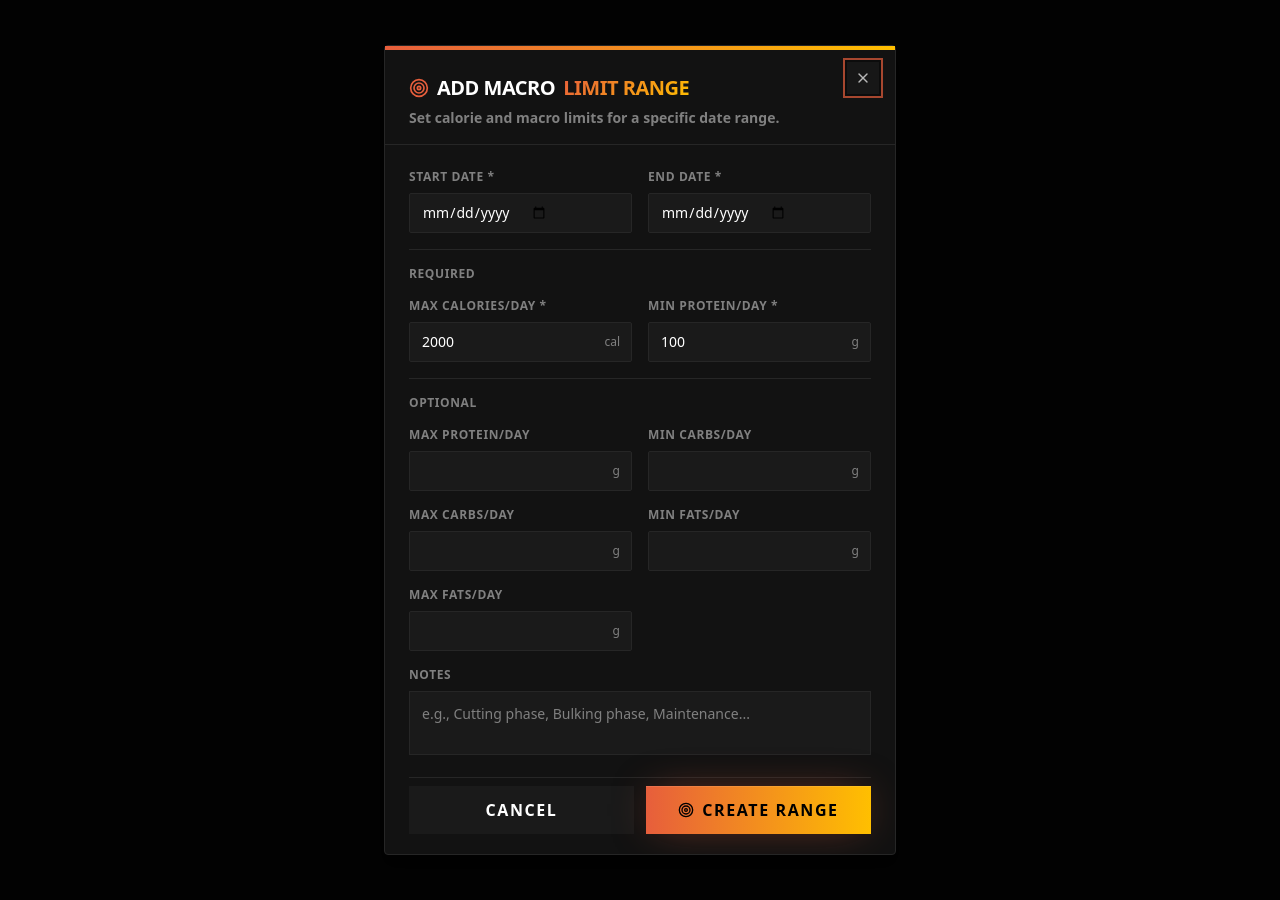
Test: AddLimitRangeModal › Form Validation › shows error when start date is empty
This screenshot has width=1280, height=900.
// Fill in required fields except start date
In the date field labelled "End Date *": coordinates (760, 213) [648,193,871,233], type "2026-02-28"
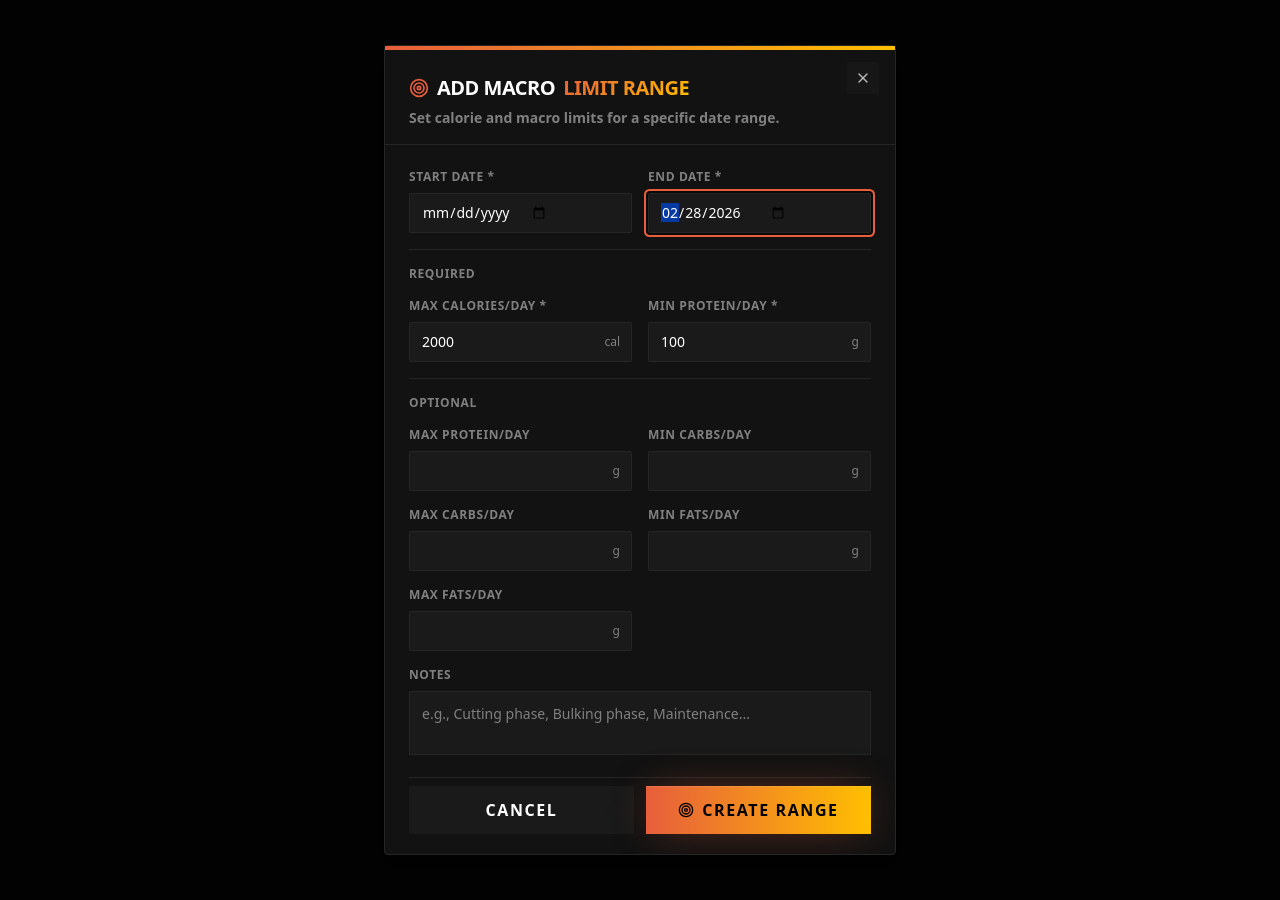
Click the button "Create Range": coordinates (758, 810) [646,786,871,834]
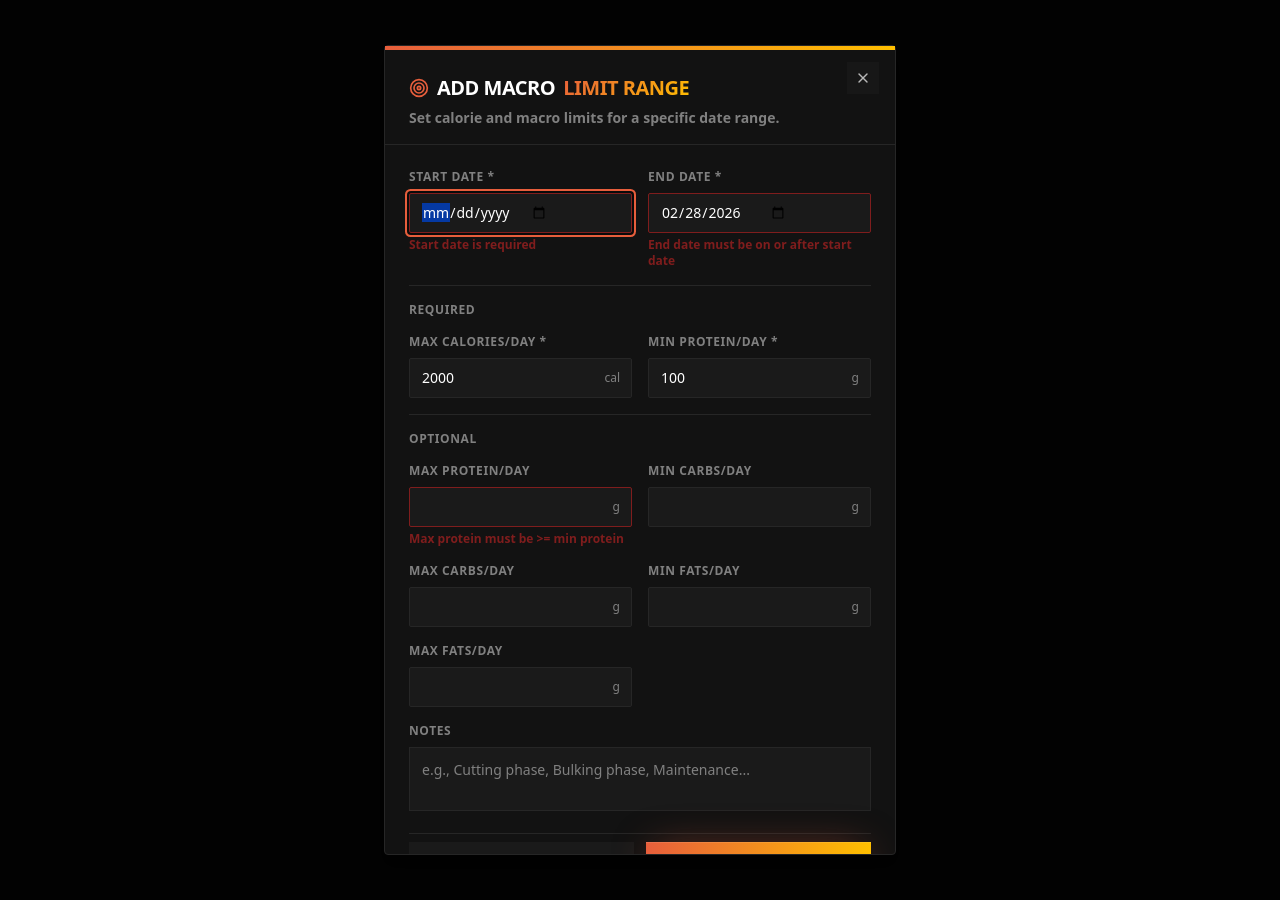
Expected: the text "Start date is required" is shown, [409,236,536,253]
